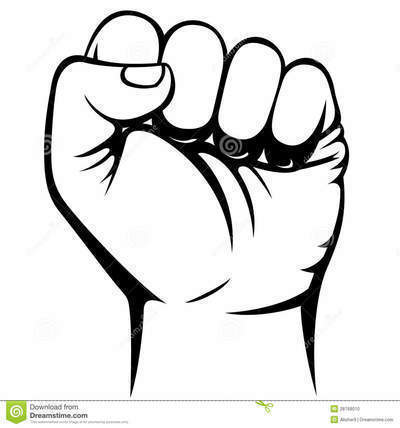closedhandfront: (23, 8, 354, 322)
